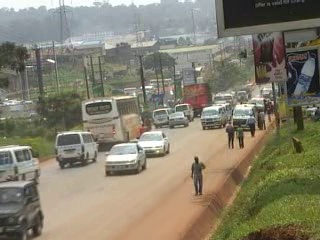Car: (0, 174, 48, 239), (103, 138, 148, 175), (134, 128, 171, 159), (162, 111, 191, 128)
Motorcycle: (141, 111, 152, 132)
